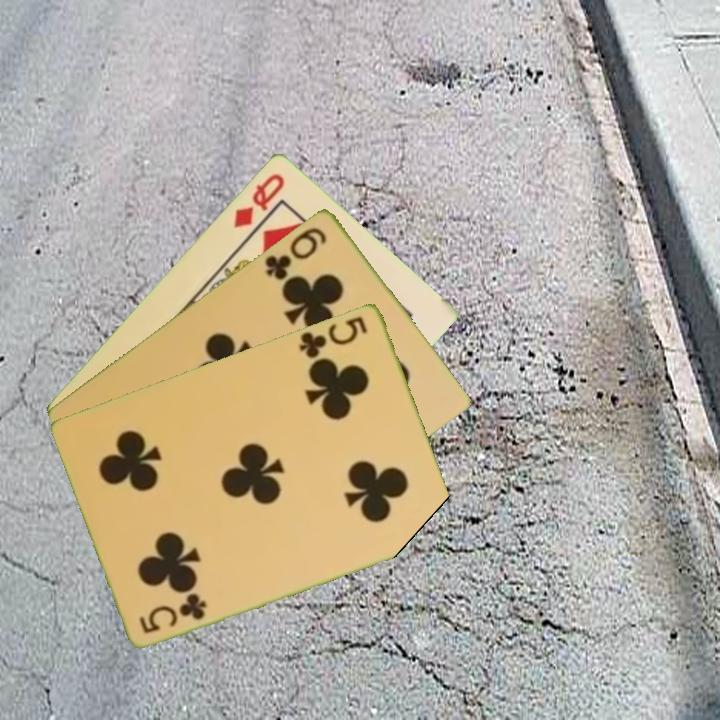5c: (295, 312, 371, 364), (136, 589, 210, 636)
6c: (261, 223, 330, 283)
Qd: (230, 169, 288, 231)
